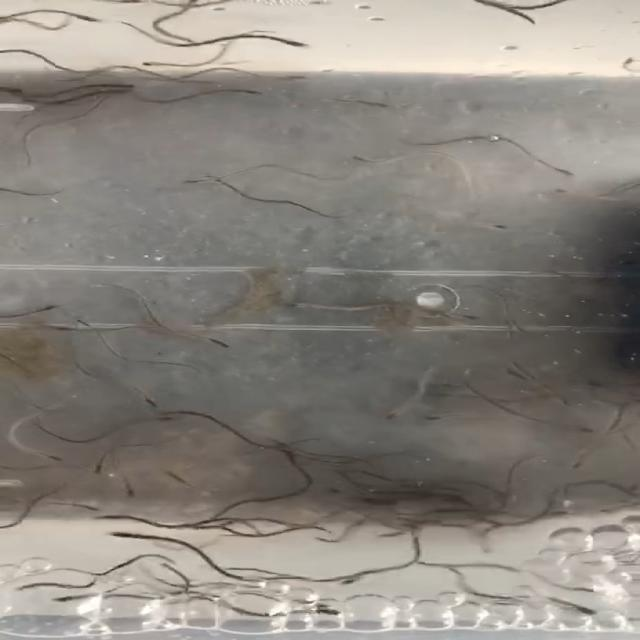active_glass_eel: (92, 508, 151, 524), (262, 33, 308, 52), (102, 530, 164, 544), (8, 580, 70, 594), (36, 444, 79, 464), (540, 387, 579, 408), (565, 581, 608, 599), (340, 152, 384, 168), (192, 332, 236, 348), (380, 405, 419, 422), (560, 456, 595, 474), (501, 366, 536, 384), (475, 533, 501, 557), (279, 442, 310, 462), (48, 594, 92, 608), (163, 471, 203, 486), (344, 98, 398, 109), (373, 528, 415, 542), (334, 568, 363, 588), (479, 219, 520, 233), (280, 296, 324, 309), (137, 389, 163, 411), (99, 86, 137, 101), (434, 488, 474, 502), (147, 408, 178, 426), (87, 458, 116, 477), (198, 170, 232, 186), (176, 173, 225, 184), (559, 600, 597, 614), (273, 72, 309, 86), (544, 163, 577, 178), (309, 604, 342, 619), (220, 90, 268, 100), (568, 424, 600, 439), (54, 323, 88, 337), (66, 12, 109, 23), (189, 521, 226, 533), (309, 535, 349, 546), (32, 303, 61, 318), (316, 484, 352, 496), (136, 61, 183, 70), (118, 479, 140, 498), (420, 410, 449, 424), (290, 600, 330, 610), (546, 186, 583, 196), (74, 314, 100, 328), (448, 313, 483, 323), (102, 80, 136, 89), (78, 503, 104, 513)
